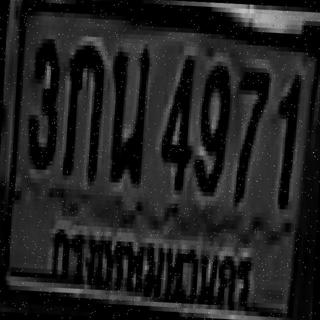A01: (60, 40, 104, 177)
A25: (107, 42, 148, 180)
N01: (273, 72, 299, 203)
N03: (25, 34, 59, 166)
N04: (158, 52, 192, 184)
N07: (233, 67, 268, 199)
N09: (193, 61, 230, 193)
P04: (39, 212, 258, 320)
